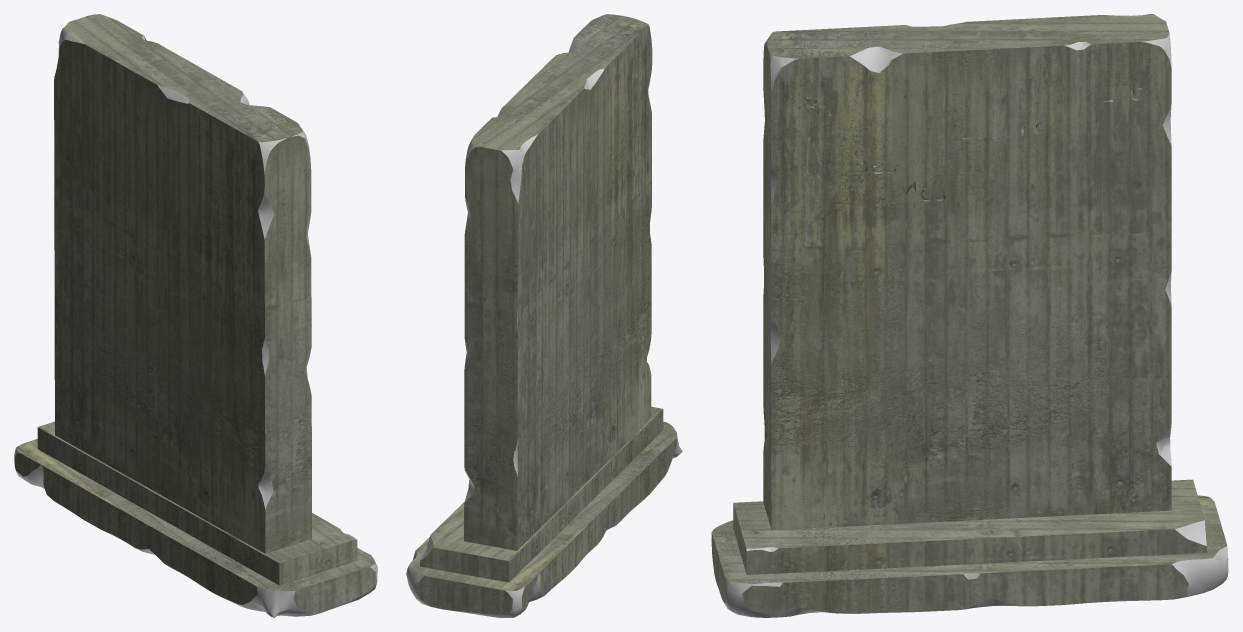
Rendered from SM_Corridor_02_12.fbx.
3 renders of one model, left to right at view 1: azimuth 30°, elevation 25°; view 2: azimuth 150°, elevation 25°; view 3: azimuth 270°, elevation 25°, orthographic. The views are drawn at different scales.
Visible parts, largest first — view 1: SM_Corridor_02_12; view 2: SM_Corridor_02_12; view 3: SM_Corridor_02_12.
Part boxes in pixels (bbox=[...]): SM_Corridor_02_12: bbox=[14, 14, 377, 617]; SM_Corridor_02_12: bbox=[406, 14, 682, 617]; SM_Corridor_02_12: bbox=[711, 14, 1228, 617].
Size of the model in its own units: 147 by 405 by 357.
